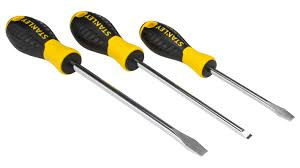Screwdriver: (7, 16, 206, 155), (71, 11, 250, 138), (140, 21, 293, 120), (70, 11, 142, 70)
